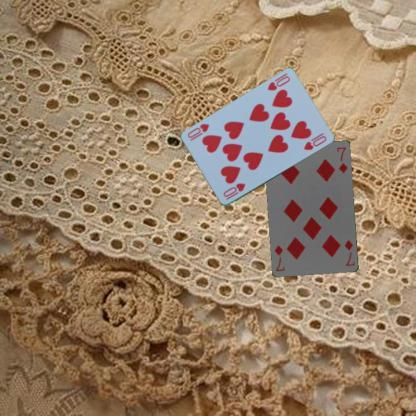10h: (221, 181, 246, 201), (265, 74, 291, 92)
7d: (342, 237, 357, 267)
